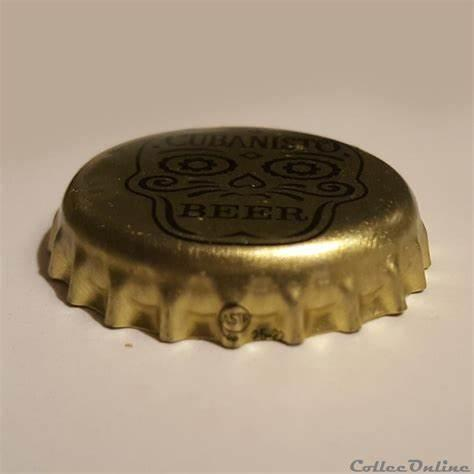metal: (48, 128, 431, 348)
